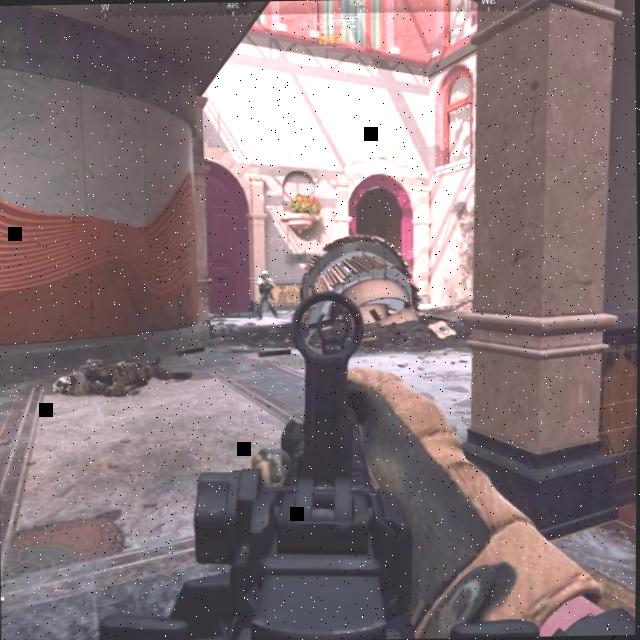MW2_body: (255, 270, 279, 320)
